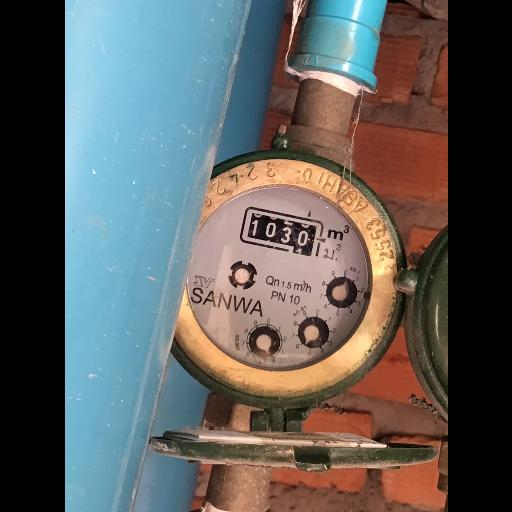0: (292, 222, 315, 256), (261, 215, 280, 243)
1: (246, 213, 262, 240)
3: (277, 220, 296, 247)
border_water_meter_number: (238, 206, 328, 258)
